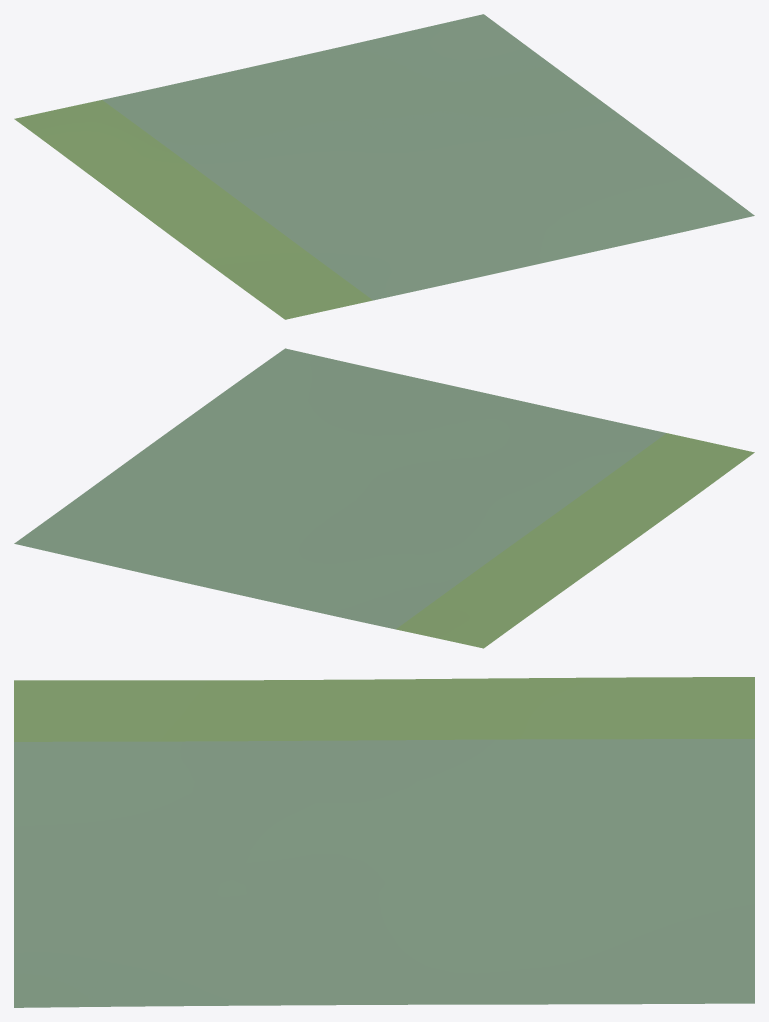
File: floor_001_chunk_x+02_z+17_lod1.glb
3 views of the same model, one above another, from view 1: azimuth 30°, elevation 25°; view 2: azimuth 150°, elevation 25°; view 3: azimuth 270°, elevation 25° (orthographic). The views are drawn at different scales.
Visible parts, largest first — view 1: floor_001_chunk_x+02_z+17_lod1; view 2: floor_001_chunk_x+02_z+17_lod1; view 3: floor_001_chunk_x+02_z+17_lod1.
Part boxes in pixels (left/top/right/bottom): floor_001_chunk_x+02_z+17_lod1: left=14, top=14, right=754, bottom=319; floor_001_chunk_x+02_z+17_lod1: left=14, top=348, right=754, bottom=648; floor_001_chunk_x+02_z+17_lod1: left=14, top=677, right=754, bottom=1007.
Size of the model in its own units: 256 by 6.77 by 256.
